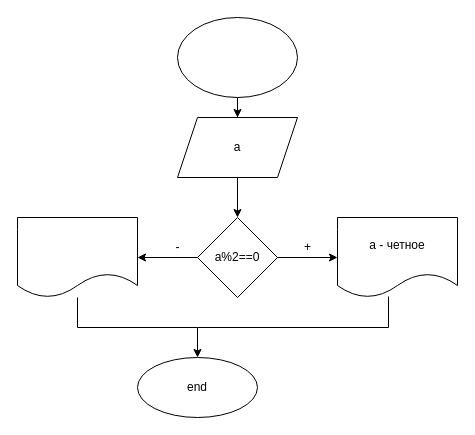
The diagram is 475 pixels wide and 435 high, and some of its shapes have lost their labels. Here are the shapes that lost their labels. From the top down, the centre of each, then its label:
the point at 237,57: start
the point at 77,257: а - нечетное
